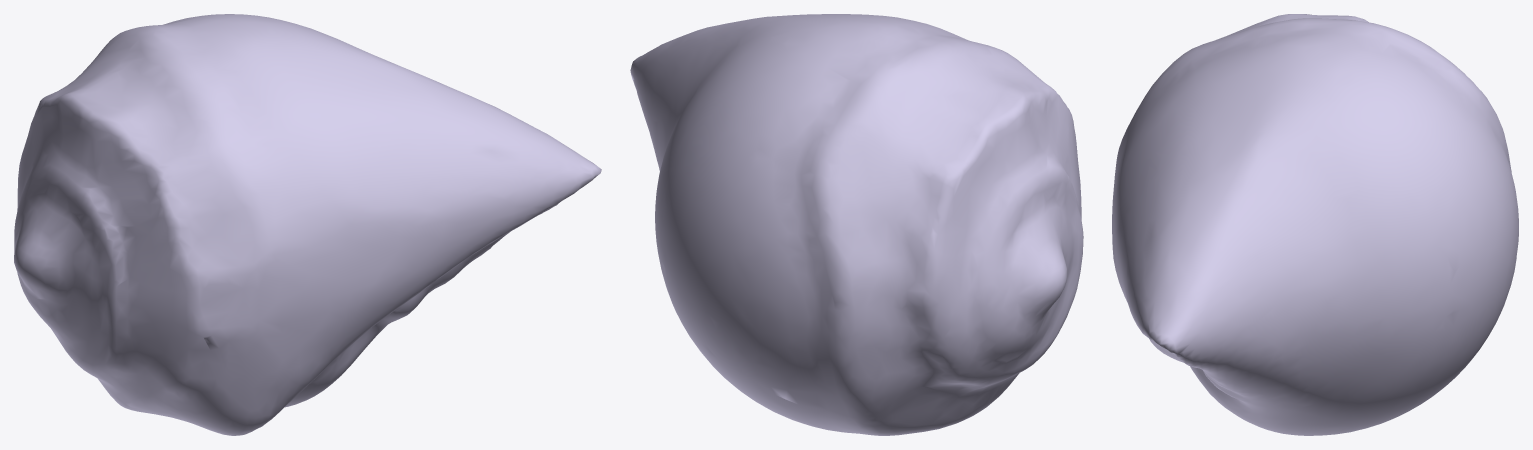
File: ivory.glb
3 renders of one model, left to right at view 1: azimuth 30°, elevation 25°; view 2: azimuth 150°, elevation 25°; view 3: azimuth 270°, elevation 25°, orthographic. The views are drawn at different scales.
Visible parts, largest first — view 1: Quad Sphere_0; view 2: Quad Sphere_0; view 3: Quad Sphere_0.
Boxes of the visible parts, bbox=[...] form: Quad Sphere_0: bbox=[14, 14, 601, 435]; Quad Sphere_0: bbox=[630, 14, 1083, 435]; Quad Sphere_0: bbox=[1112, 14, 1518, 435].
Bounding box in the file's own units: 3.6 × 2.54 × 2.51.
